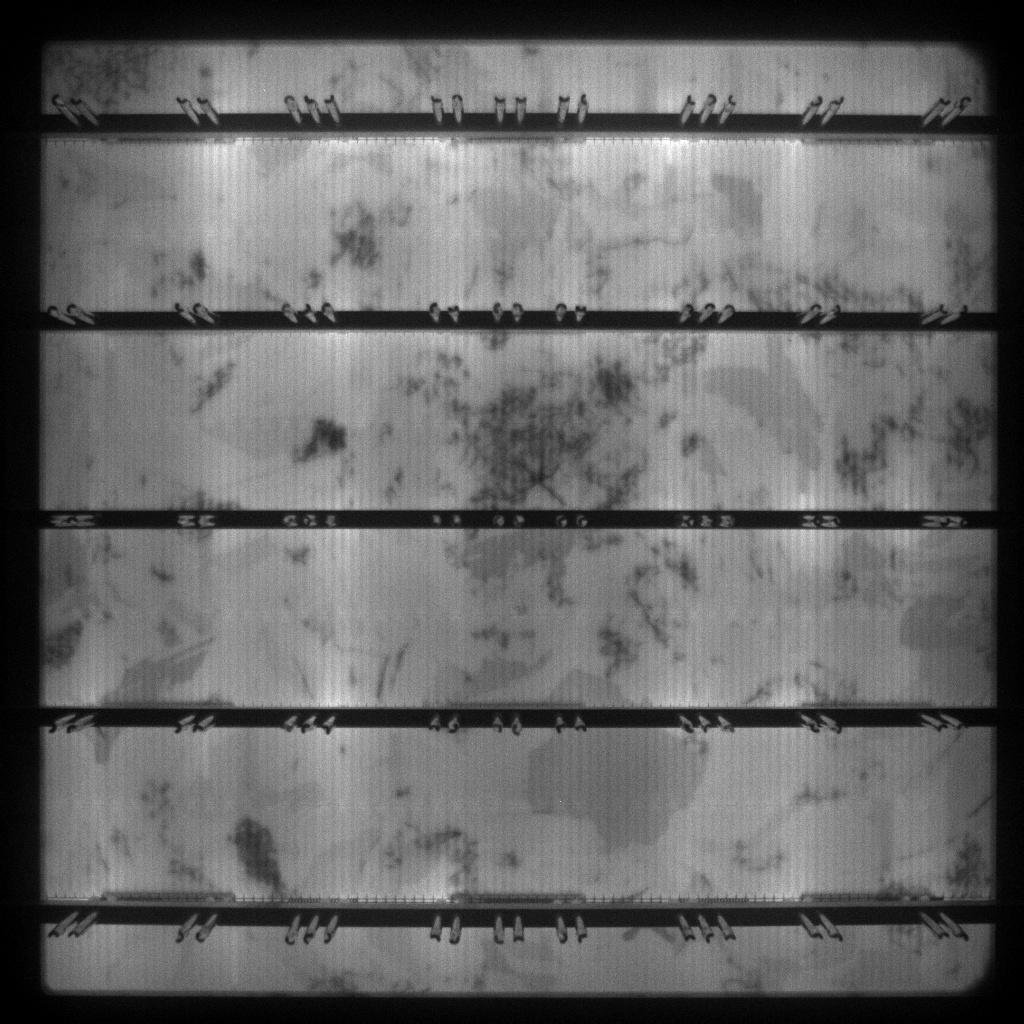crack: (518, 458, 569, 506)
